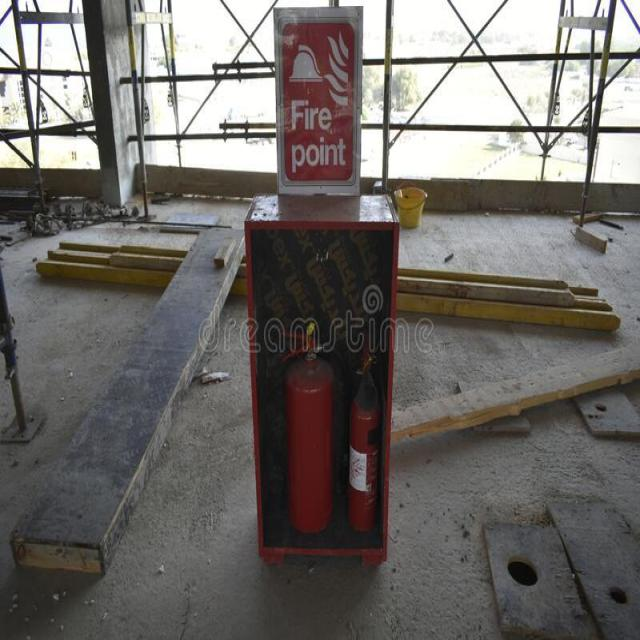fire_extinguisher: (280, 311, 338, 538), (342, 340, 387, 544)
